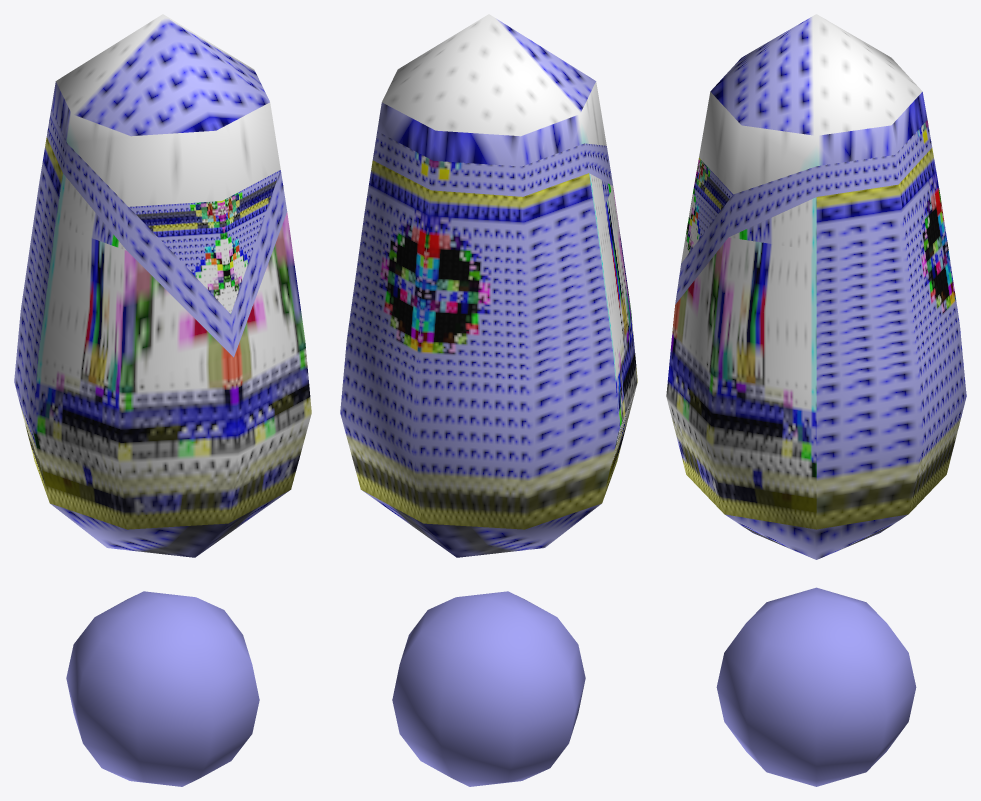
File: cloth_ninja_model.glb
3 renders of one model, left to right at view 1: azimuth 30°, elevation 25°; view 2: azimuth 150°, elevation 25°; view 3: azimuth 270°, elevation 25°, orthographic.
Visible parts, largest first — view 1: cloth_ninja_model; view 2: cloth_ninja_model; view 3: cloth_ninja_model.
Boxes of the visible parts, x1,y1,x2,y2 form: cloth_ninja_model: (14,14,311,786); cloth_ninja_model: (340,14,637,786); cloth_ninja_model: (666,14,966,786).
Size of the model in its own units: 30.77 by 86.34 by 30.77.
1 material, 1 textured.
